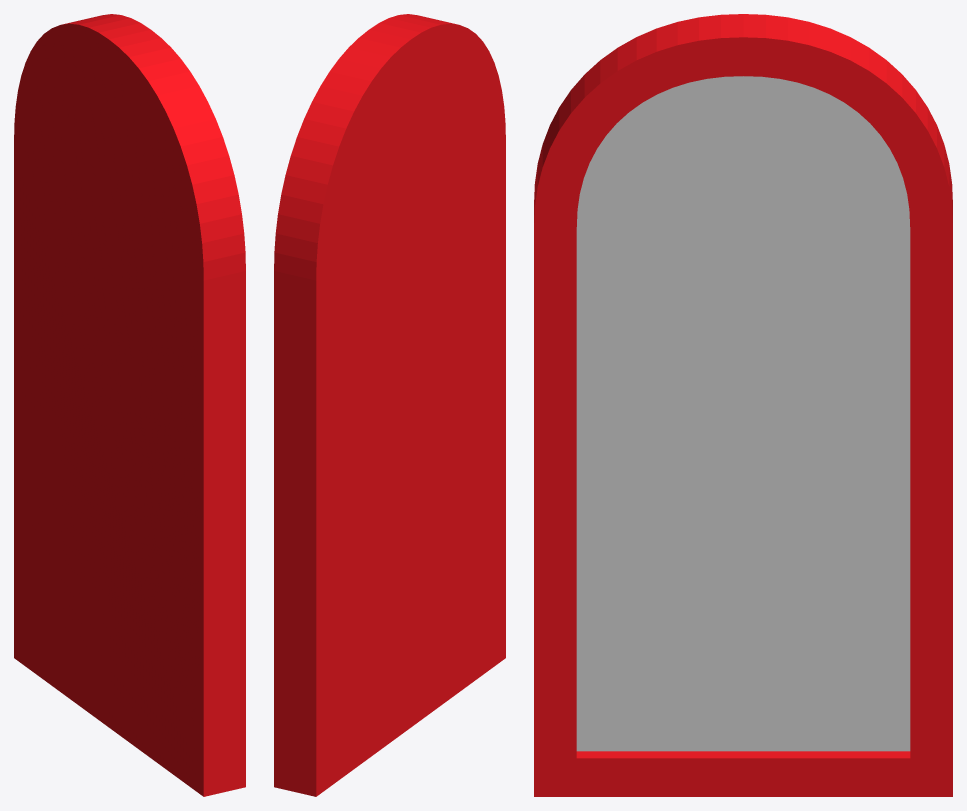
Rendered from ayna.fbx.
3 renders of one model, left to right at view 1: azimuth 30°, elevation 25°; view 2: azimuth 150°, elevation 25°; view 3: azimuth 270°, elevation 25°, orthographic. The views are drawn at different scales.
Parts seen in each view (by area): view 1: Cube; view 2: Cube; view 3: Cube.
Boxes of the visible parts, x1,y1,x2,y2 form: Cube: (14,14,245,796); Cube: (274,14,505,796); Cube: (534,14,952,796).
Size of the model in its own units: 20.91 by 326 by 163.
